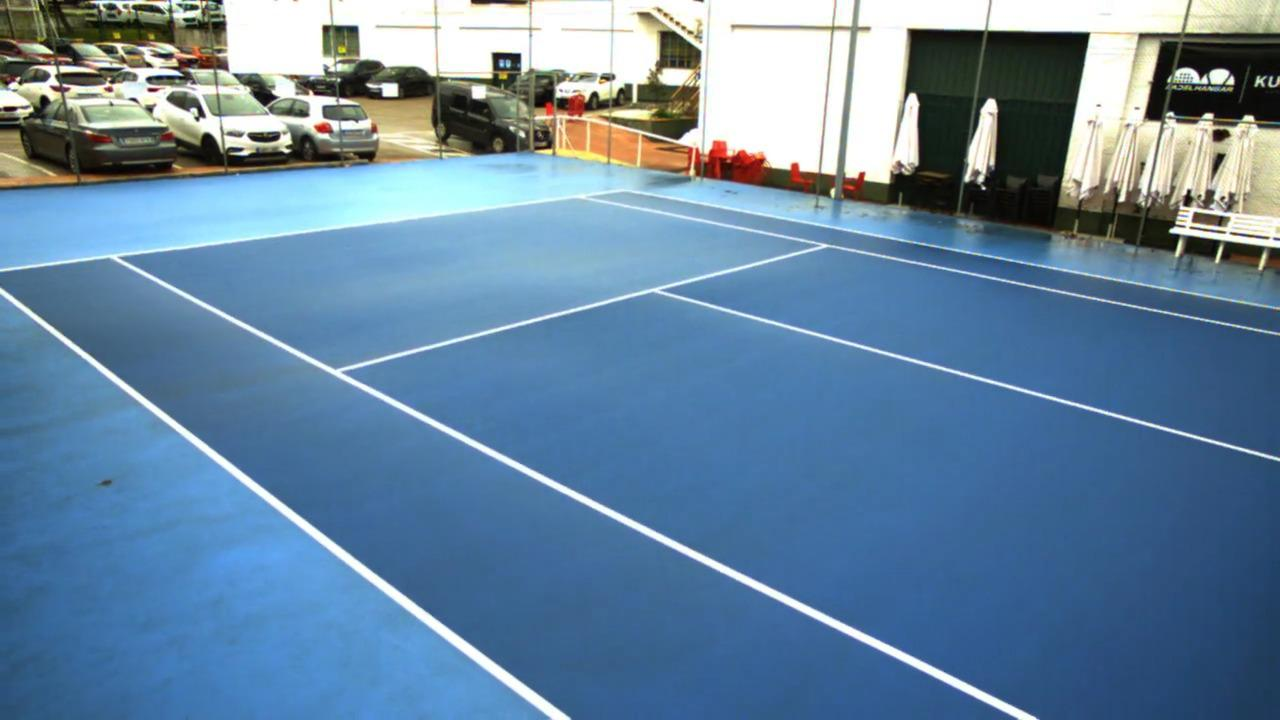cancha_tenis: (112, 194, 1280, 720)
point_f1: (103, 247, 124, 265)
point_f2: (566, 189, 591, 206)
point_i1: (323, 359, 355, 383)
point_i2: (811, 236, 833, 256)
point_ic1: (643, 280, 669, 304)
